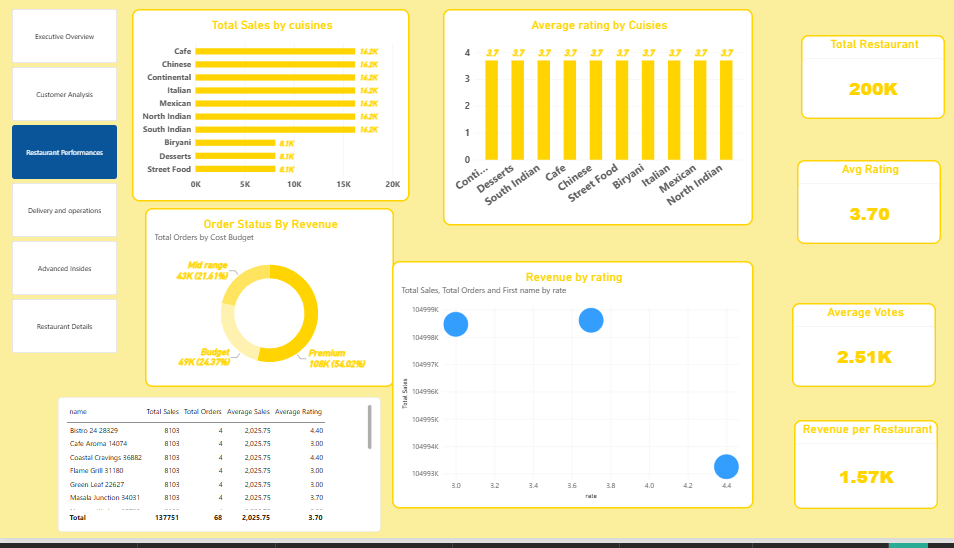

The dashboard page shown, as its layout file describes it:
{"tool":"powerbi","page":{"name":"Restaurant Performances","canvas":[1920,1080],"ordinal":2},"visuals":[{"type":"cardVisual","title":"Total Restaurant","fields":{"Data":["Orders.Total Restaurant"]},"box":[1603.3,73.3,288.3,168.3],"z":0},{"type":"cardVisual","title":"Revenue per Restaurant","fields":{"Data":["Orders.Revenue per Restaurant"]},"box":[1590,843.3,288.3,178.3],"z":1000},{"type":"cardVisual","title":"Average Votes","fields":{"Data":["Orders.Average vote"]},"box":[1586.7,610,288.3,168.3],"z":2000},{"type":"cardVisual","title":"Avg Rating","fields":{"Data":["Orders.Average Rating"]},"box":[1596.7,323.3,288,168],"z":3000},{"type":"pieChart","title":"Order Status By Revenue","fields":{"Category":["Restaurants.Cost Budget"],"Y":["Orders.Total Orders"]},"box":[292.5,420,497.5,357.5],"z":4000},{"type":"clusteredColumnChart","title":"Average rating by Cuisies","fields":{"Category":["Restaurants.cuisines"],"Y":["Avg(Restaurants.rate)"]},"box":[887.5,22.5,620,432.5],"z":5000},{"type":"barChart","fields":{"Category":["Restaurants.cuisines"],"Y":["Orders.Total Sales"]},"box":[265,22.5,555,385],"z":6000},{"type":"scatterChart","title":"Revenue by rating","fields":{"Size":["Orders.Total Orders"],"X":["Restaurants.rate"],"Y":["Orders.Total Sales"]},"box":[785,525,722.5,495],"z":7000},{"type":"tableEx","fields":{"Values":["Restaurants.name","Orders.Total Sales","Orders.Total Orders","Orders.Average Sales","Orders.Average Rating"]},"box":[117.5,797.5,645,270],"z":8000},{"type":"pageNavigator","box":[25,22.5,210,692.5],"z":8001}]}

Visuals, with their boxes on the page's 1920x1080 design canvas (x1, y1, x2, y2). These are canvas units, not pixel positions in the 954x548 screenshot, which may show the page scaled, cropped or inside an application window:
"Total Restaurant" cardVisual: [1603,73,1892,242]
"Revenue per Restaurant" cardVisual: [1590,843,1878,1022]
"Average Votes" cardVisual: [1587,610,1875,778]
"Avg Rating" cardVisual: [1597,323,1885,491]
"Order Status By Revenue" pieChart: [292,420,790,778]
"Average rating by Cuisies" clusteredColumnChart: [888,22,1508,455]
barChart - Restaurants.cuisines x Orders.Total Sales: [265,22,820,408]
"Revenue by rating" scatterChart: [785,525,1508,1020]
tableEx - Restaurants.name x Orders.Total Sales: [118,798,762,1068]
pageNavigator: [25,22,235,715]
